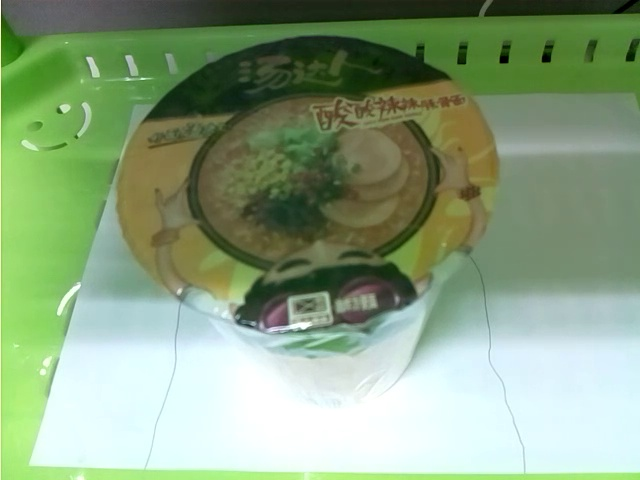noodles: (119, 31, 500, 401)
